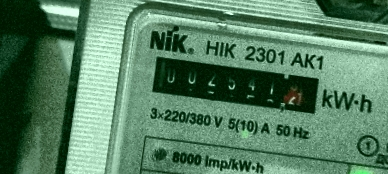0: (163, 63, 179, 85), (184, 64, 199, 86)
1: (264, 73, 278, 98)
2: (204, 66, 221, 89)
4: (245, 70, 258, 93)
5: (223, 68, 239, 93)
6: (285, 92, 298, 106)
screen: (138, 43, 332, 124)
